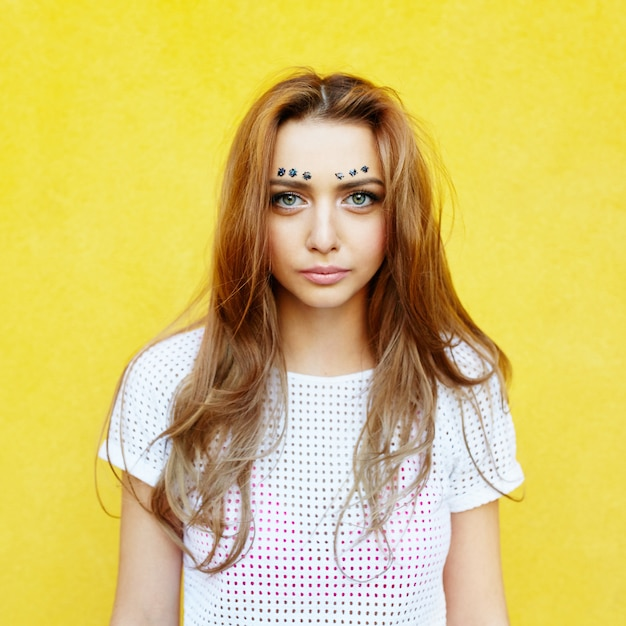teen: (233, 72, 409, 322)
